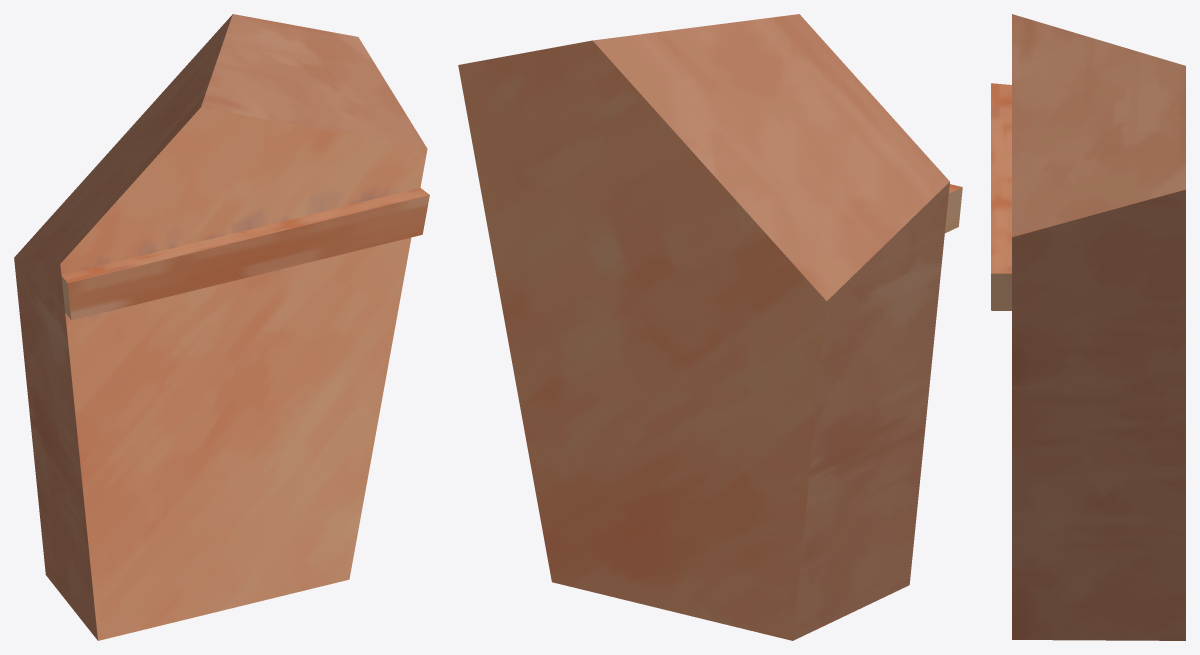
File: wall2_upper_shutter_s00.fbx
The picture shows the model from 3 angles, left to right: view 1: azimuth 30°, elevation 25°; view 2: azimuth 150°, elevation 25°; view 3: azimuth 270°, elevation 25°; orthographic projection. The views are drawn at different scales.
Parts seen in each view (by area): view 1: wall2_upper_shutter_s00; view 2: wall2_upper_shutter_s00; view 3: wall2_upper_shutter_s00.
Boxes of the visible parts, x1,y1,x2,y2 form: wall2_upper_shutter_s00: (14,14,429,640); wall2_upper_shutter_s00: (458,14,962,640); wall2_upper_shutter_s00: (991,14,1185,640).
Bounding box in the file's own units: 2.73 × 3.52 × 1.12.
